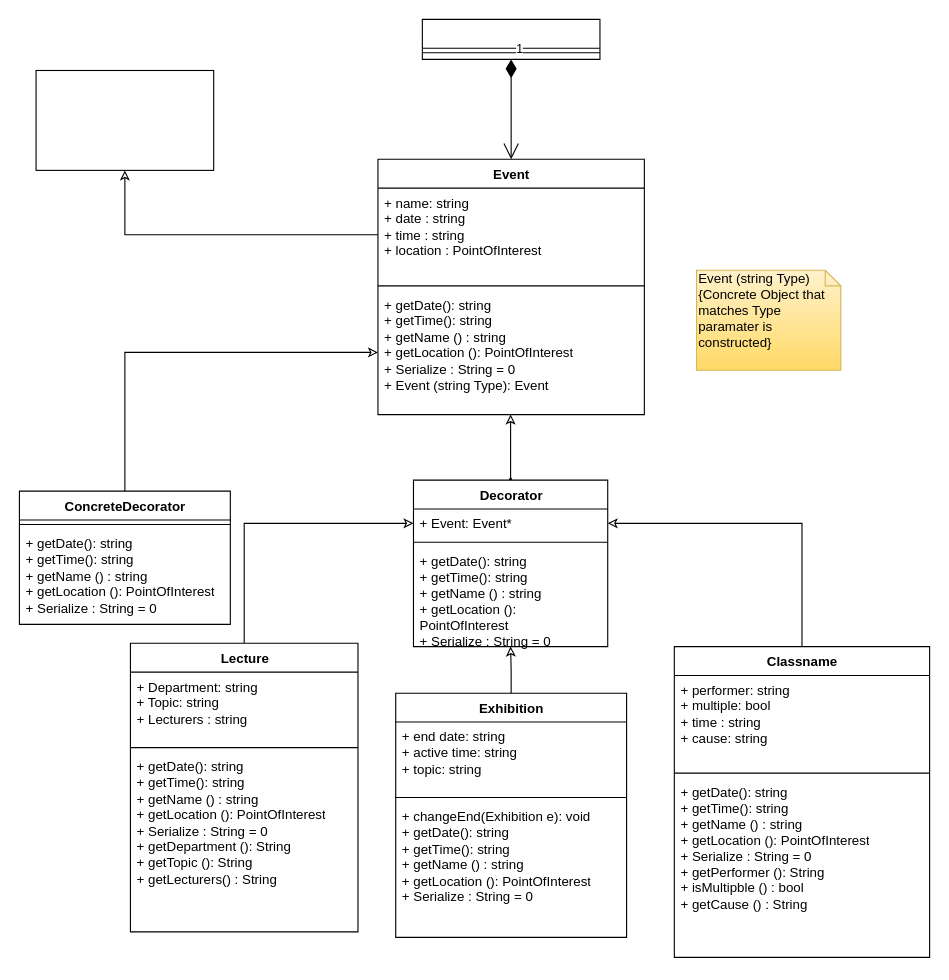
This 949x980 diagram has some shape labels left out. Here are the shapes that lost their labels. From the top down, the centre of each, then its label:
the point at 510,38: PointsOfInterest
the point at 124,119: EventNotification + Serialize () : string
